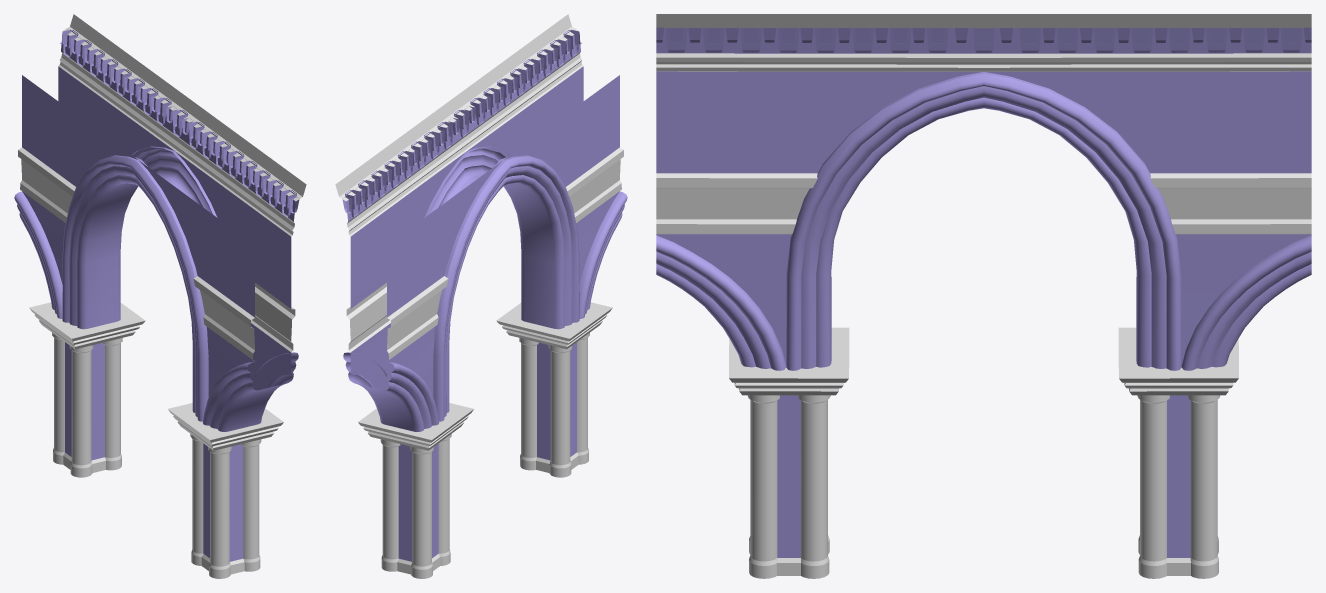
File: Big Arch v2.fbx
The picture shows the model from 3 angles, left to right: view 1: azimuth 30°, elevation 25°; view 2: azimuth 150°, elevation 25°; view 3: azimuth 270°, elevation 25°; orthographic projection. The views are drawn at different scales.
Visible parts, largest first — view 1: Big Arch v2_LOD0; view 2: Big Arch v2_LOD0; view 3: Big Arch v2_LOD0.
Boxes of the visible parts, bbox=[...] form: Big Arch v2_LOD0: bbox=[14, 14, 306, 578]; Big Arch v2_LOD0: bbox=[335, 14, 627, 578]; Big Arch v2_LOD0: bbox=[656, 14, 1311, 578].
Size of what is drawn, in the model's own units: 161 by 844 by 877.
